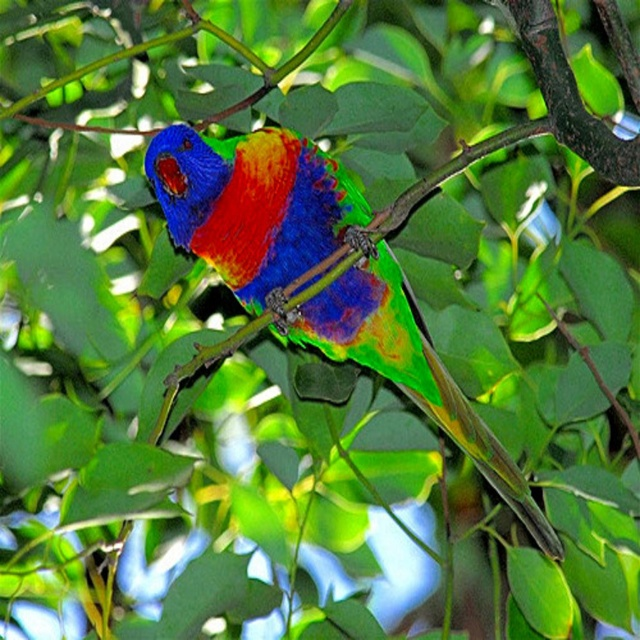Parrot: (143, 120, 567, 562)
